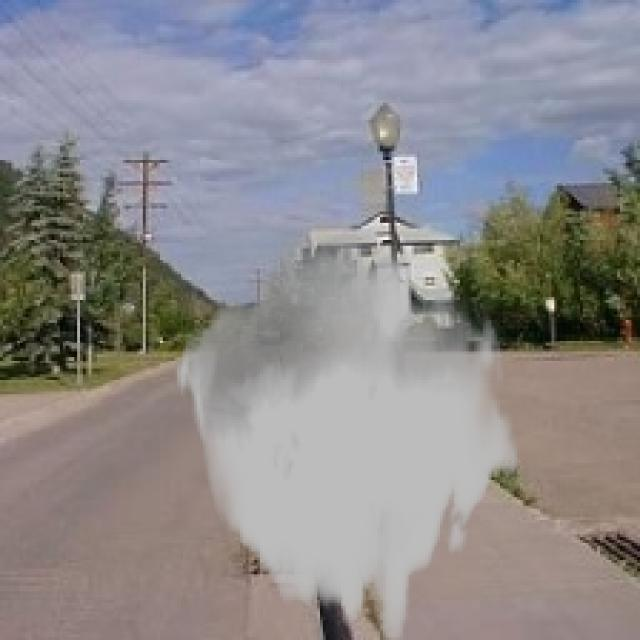smoke: (174, 226, 523, 637)
